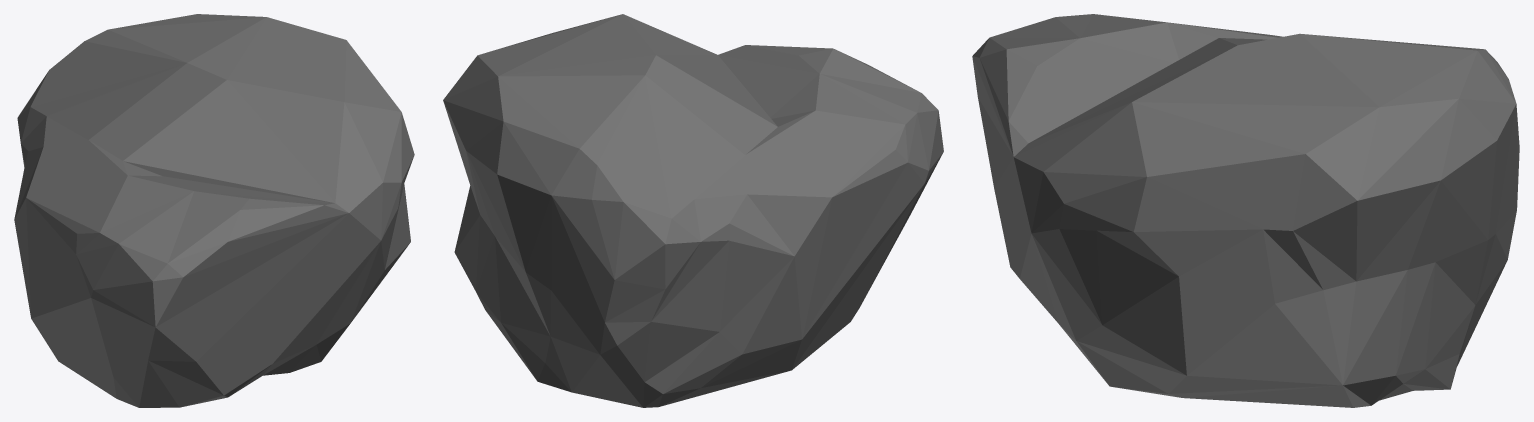
Rendered from SM_Gen_Env_Rock_02.glb.
3 views of the same model, side by side, from view 1: azimuth 30°, elevation 25°; view 2: azimuth 150°, elevation 25°; view 3: azimuth 270°, elevation 25° (orthographic). The views are drawn at different scales.
Visible parts, largest first — view 1: SM_Gen_Env_Rock_02; view 2: SM_Gen_Env_Rock_02; view 3: SM_Gen_Env_Rock_02.
Part boxes in pixels (bbox=[...]): SM_Gen_Env_Rock_02: bbox=[14, 14, 414, 407]; SM_Gen_Env_Rock_02: bbox=[443, 14, 943, 407]; SM_Gen_Env_Rock_02: bbox=[972, 14, 1519, 407].
Bounding box in the file's own units: 2.07 × 1.46 × 2.18.
1 material, 1 textured.
